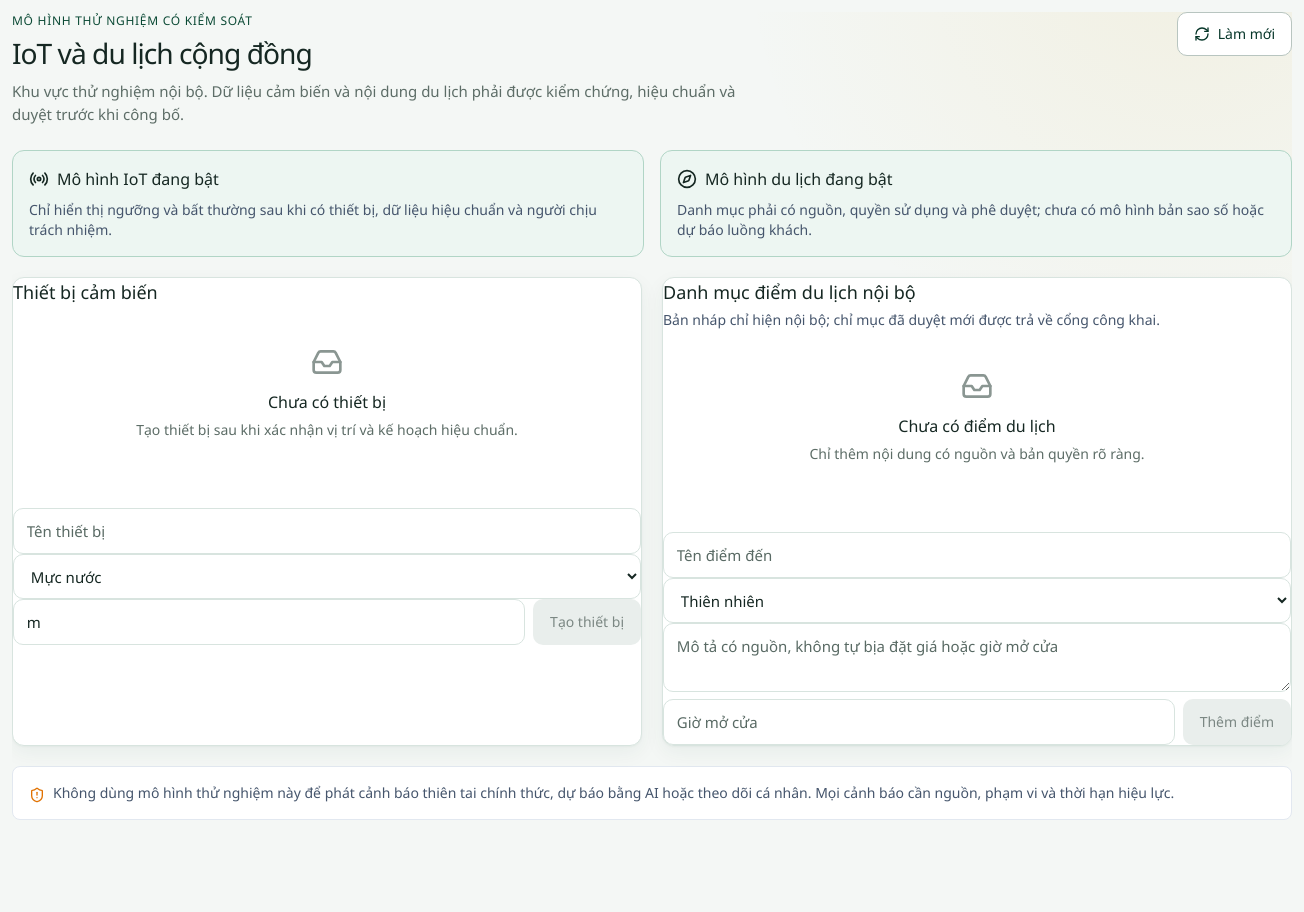
Test: PilotWorkbench › labels experimental controls and blocks an invalid device name
Expected: the heading "Thiết bị cảm biến" is shown, [13, 280, 158, 304]
Expected: the dropdown named "Loại thiết bị" is shown, [13, 554, 641, 599]
Step 1. Type "A" into the field labelled "Tên thiết bị" → [327, 531], box [13, 508, 641, 554]
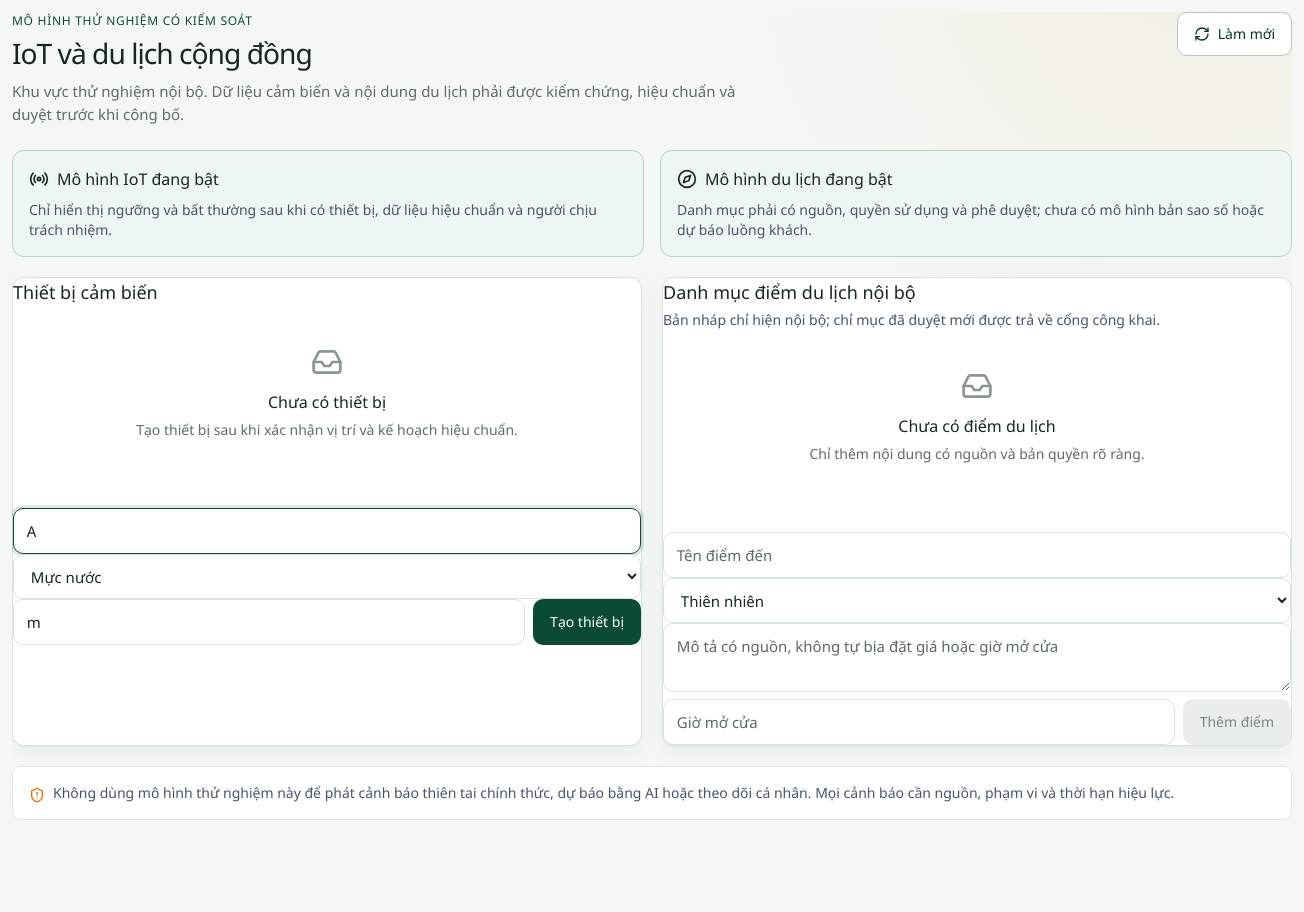
Step 2. Click the button "Tạo thiết bị" → [587, 622], box [533, 599, 641, 645]
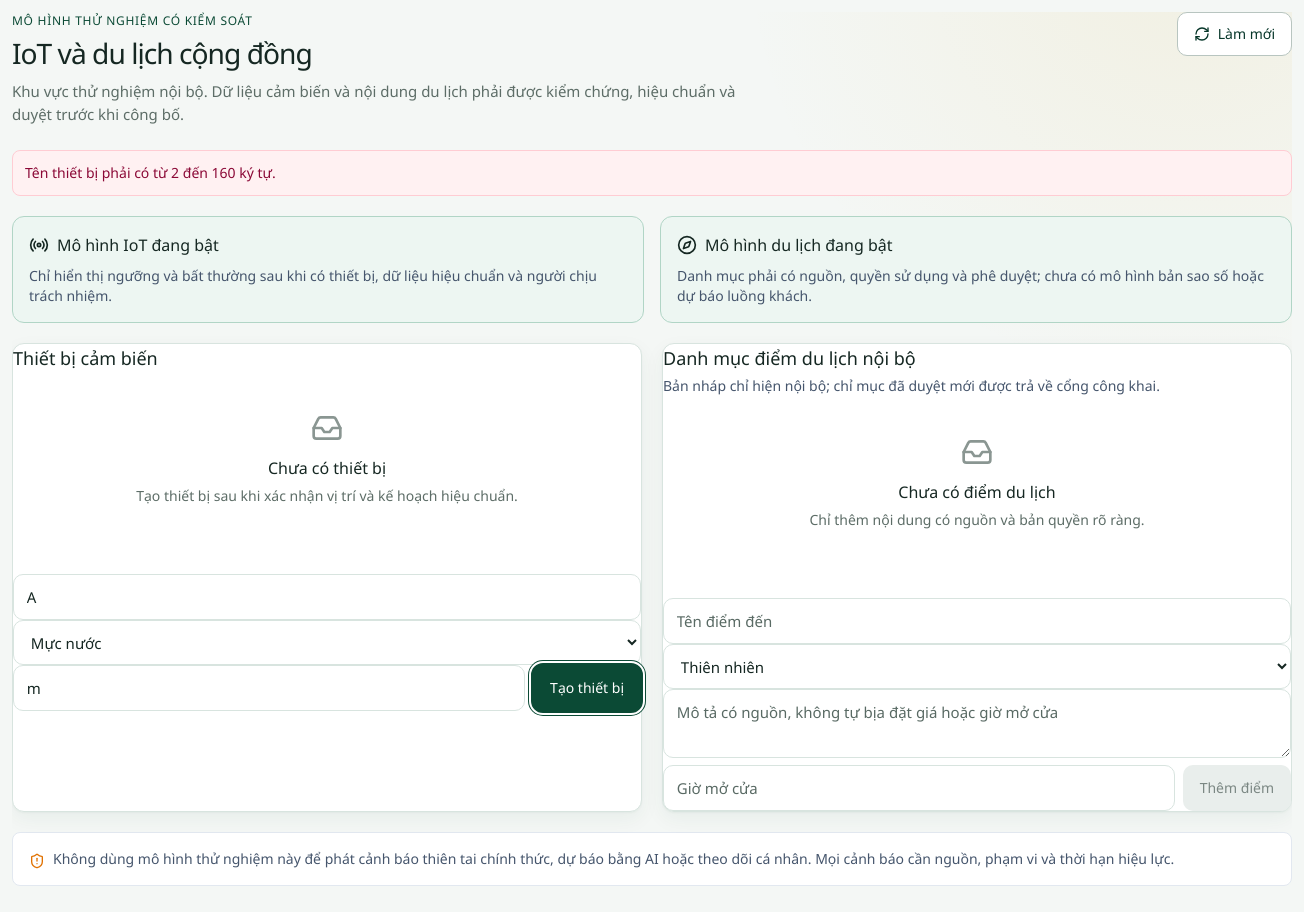
Expected: the message reads "Tên thiết bị phải có từ 2 đến 160 ký tự.", [25, 163, 276, 182]
